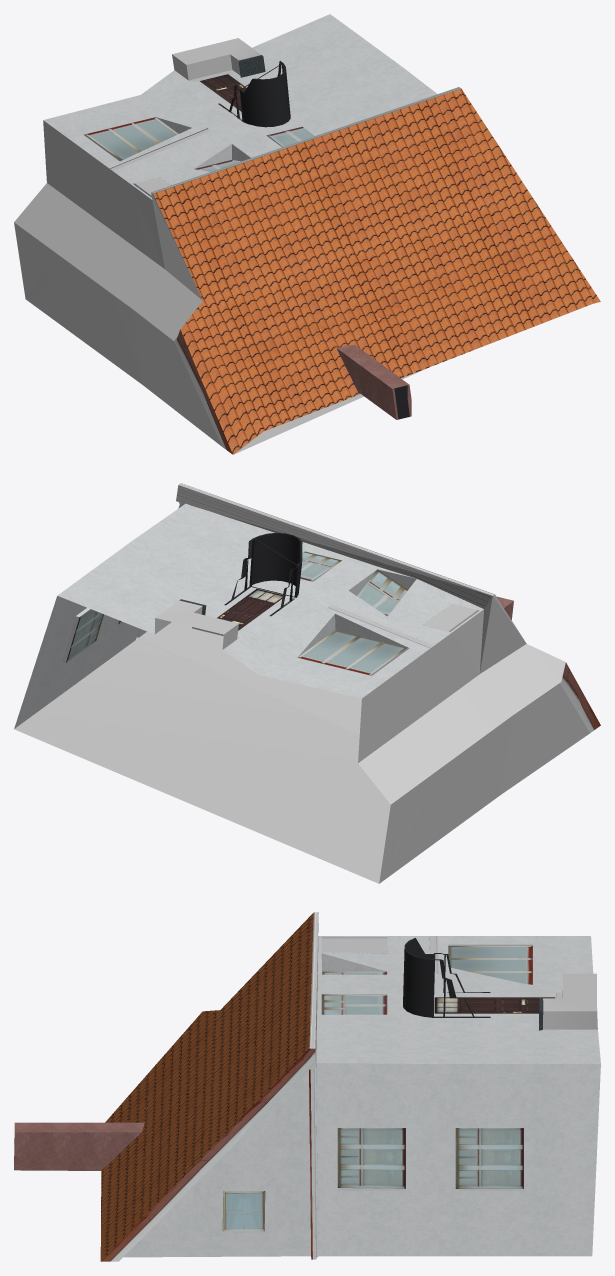
The model's file is Ryytli_30-origo.obj.
3 renders of one model, top to bottom at view 1: azimuth 30°, elevation 25°; view 2: azimuth 150°, elevation 25°; view 3: azimuth 270°, elevation 25°, orthographic. The views are drawn at different scales.
Parts seen in each view (by area): view 1: Ryytli_30; view 2: Ryytli_30; view 3: Ryytli_30.
Boxes of the visible parts, x1=… form: Ryytli_30: x1=14, y1=14, x2=600, y2=454; Ryytli_30: x1=14, y1=483, x2=600, y2=883; Ryytli_30: x1=14, y1=912, x2=600, y2=1261.
Size of the model in its own units: 12.38 by 7.5 by 14.39.
